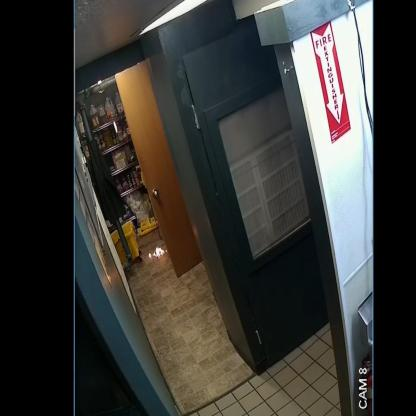fire: (148, 246, 167, 258)
